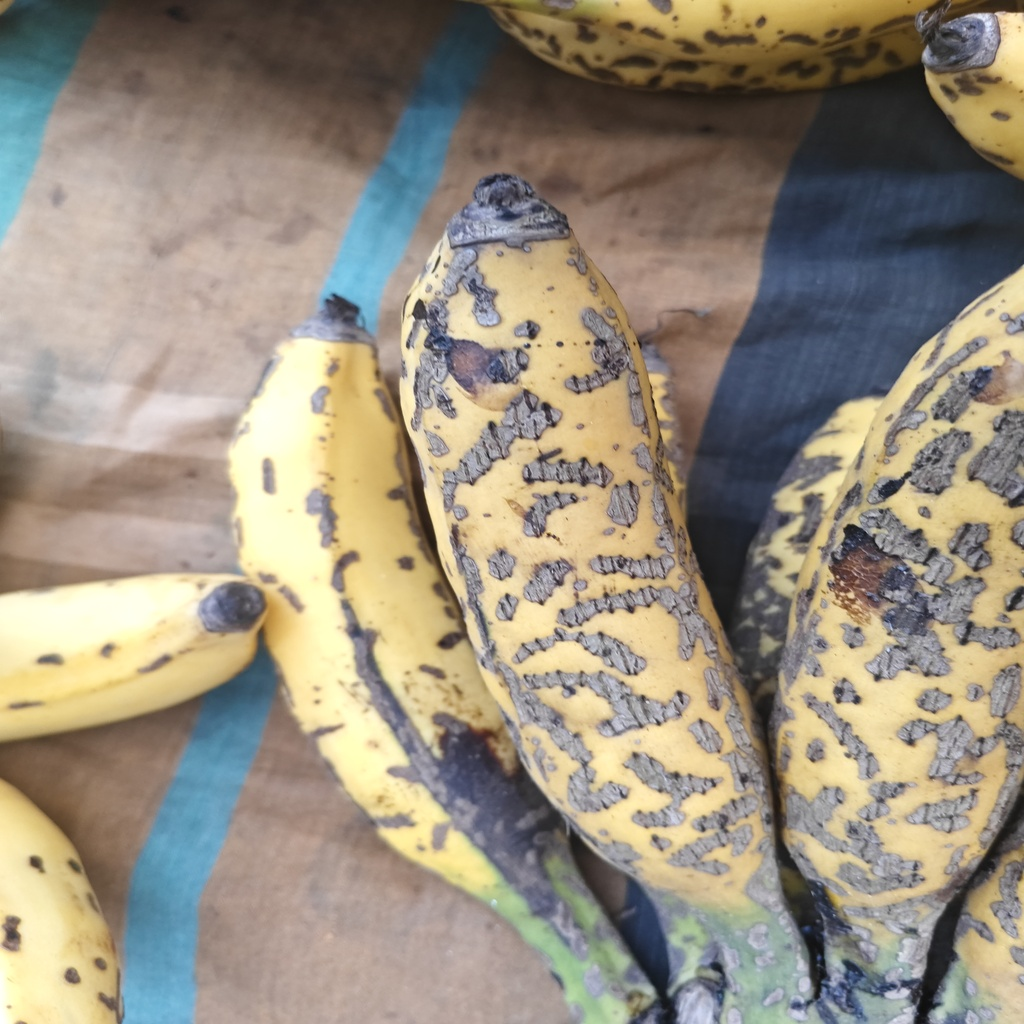unhealthy: (403, 180, 777, 918), (235, 324, 568, 894)
